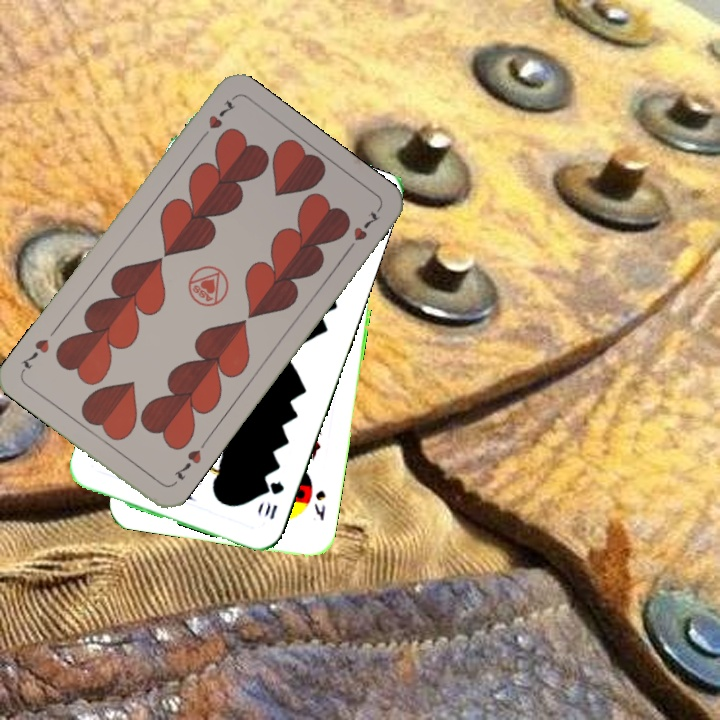G10: (259, 477, 287, 522)
H7: (194, 94, 238, 144), (170, 437, 209, 483)
SK: (310, 486, 328, 523)
